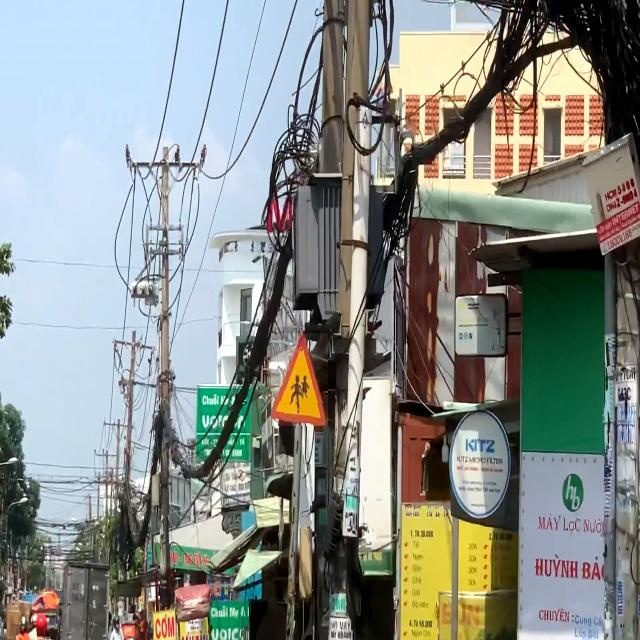bien_nguy_hiem: (271, 333, 328, 426)
